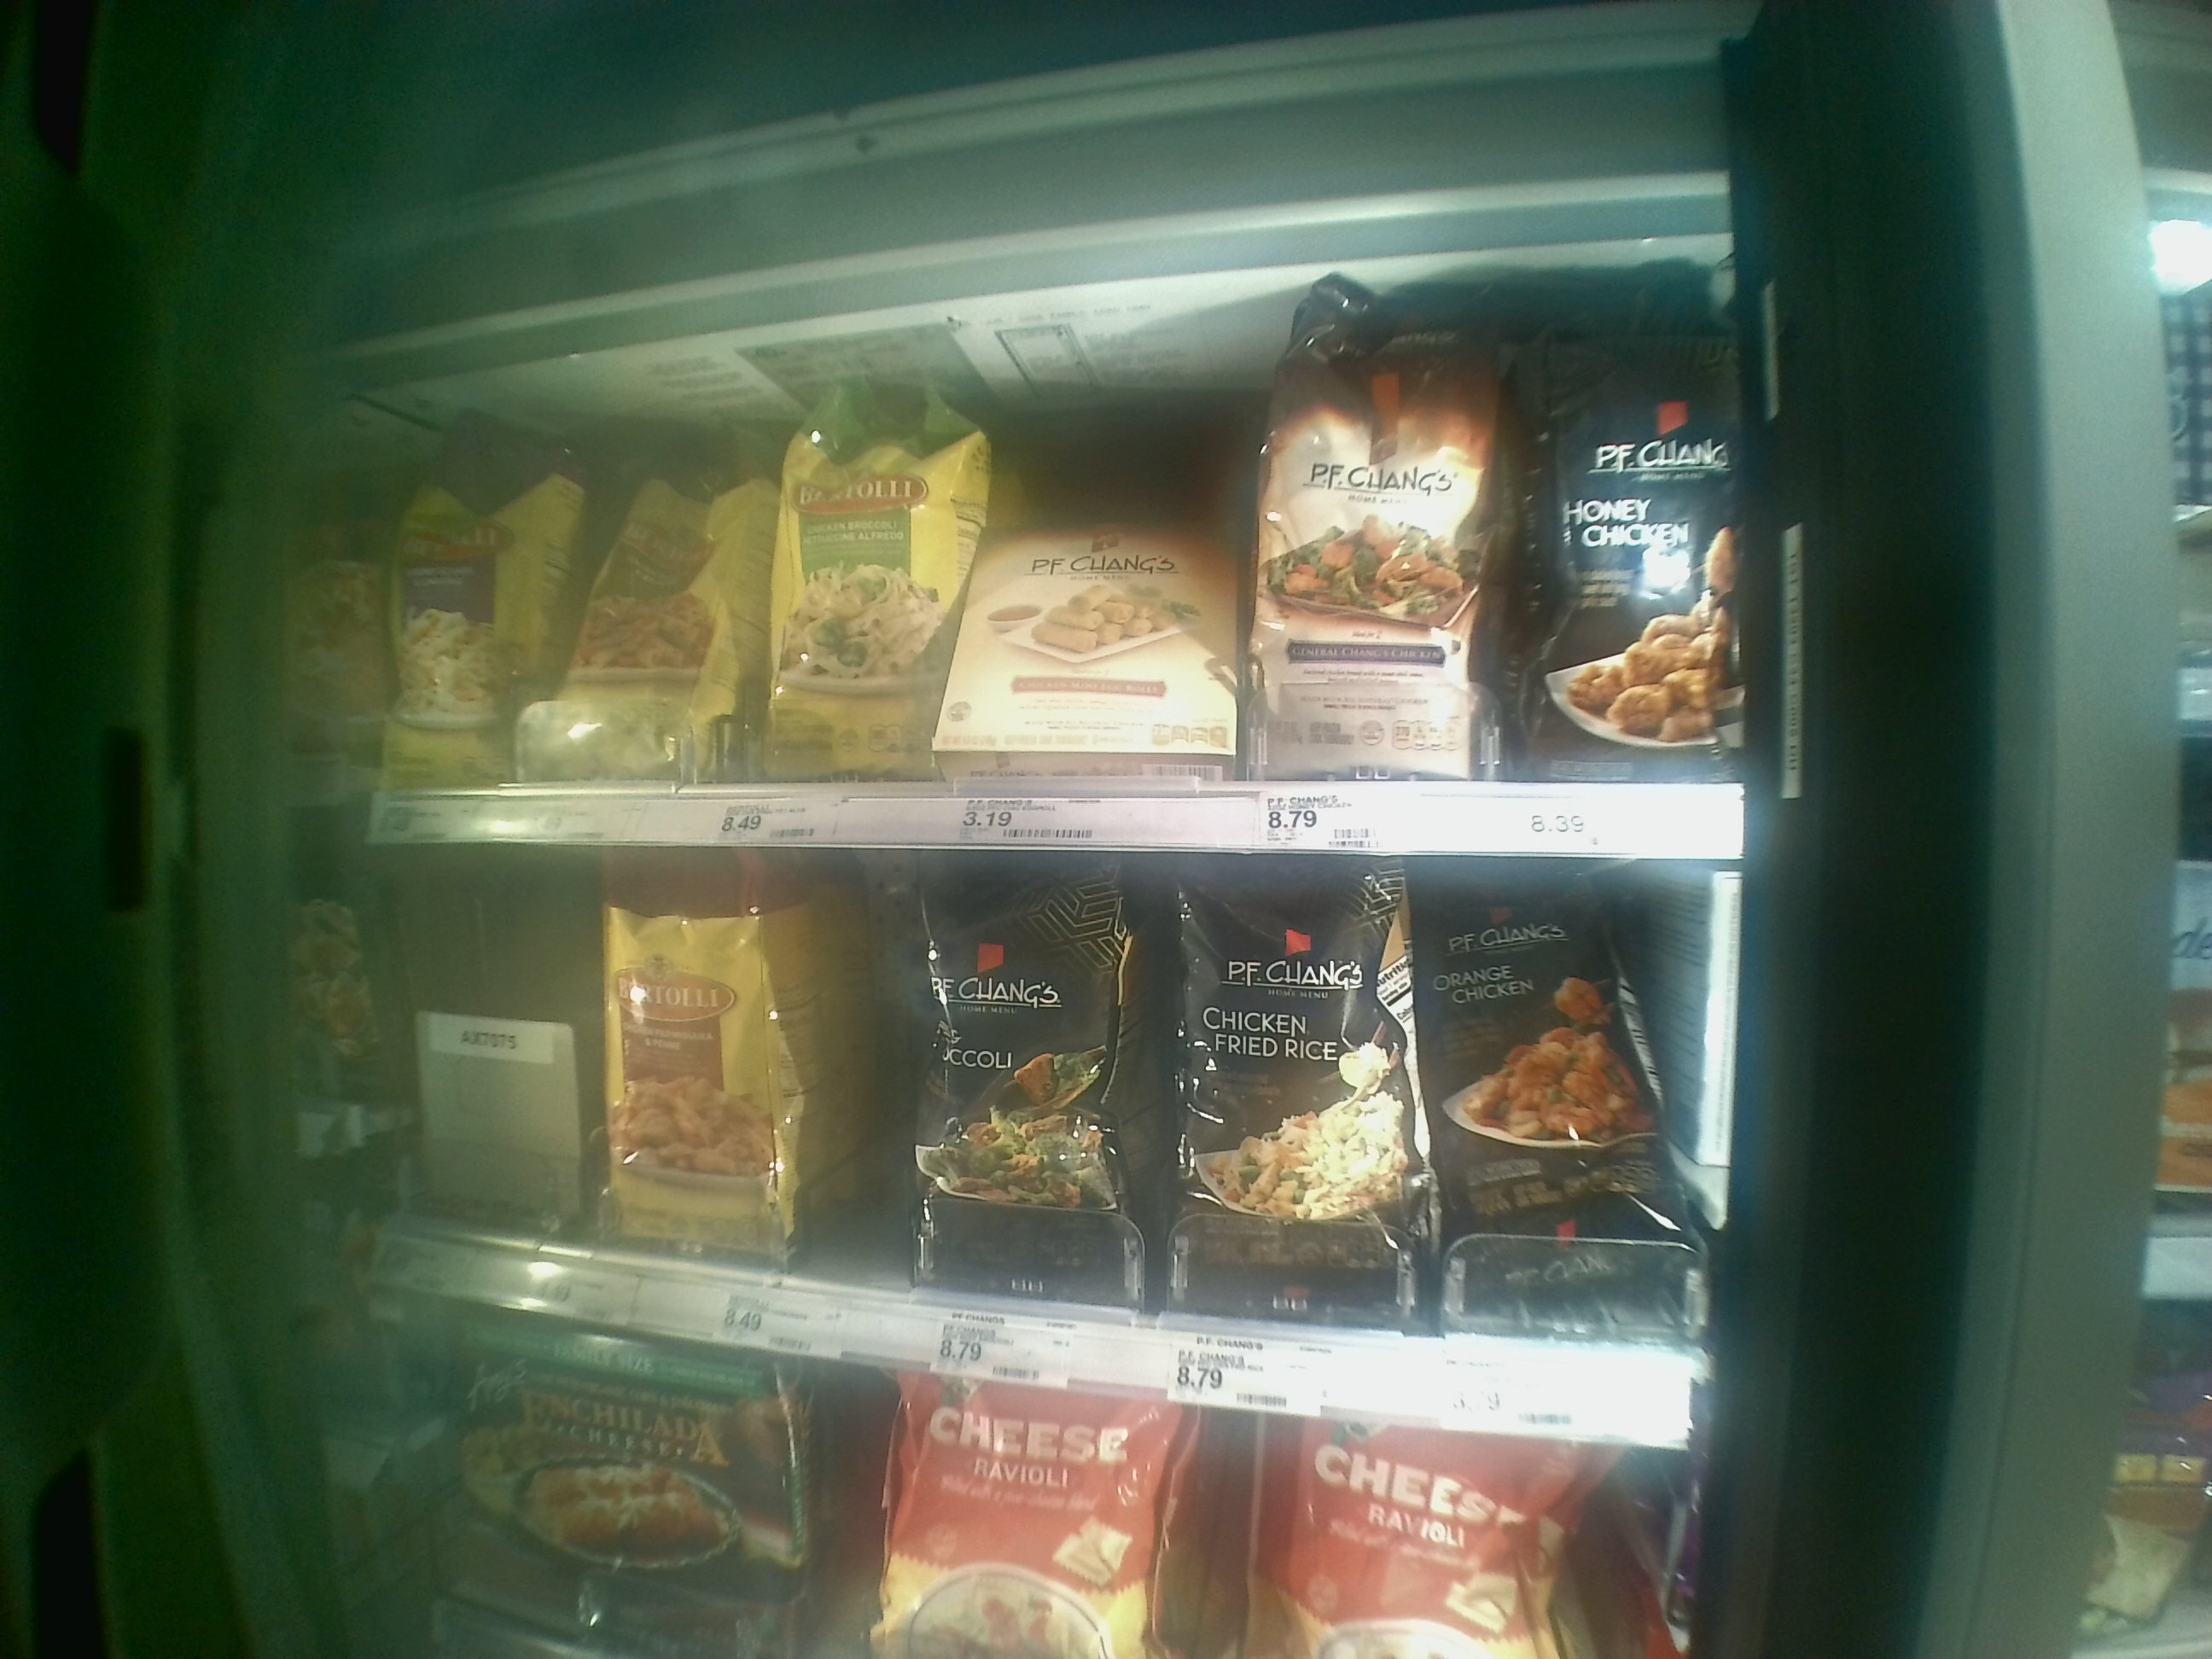shelf: (355, 254, 1742, 859), (369, 845, 1709, 1459)
